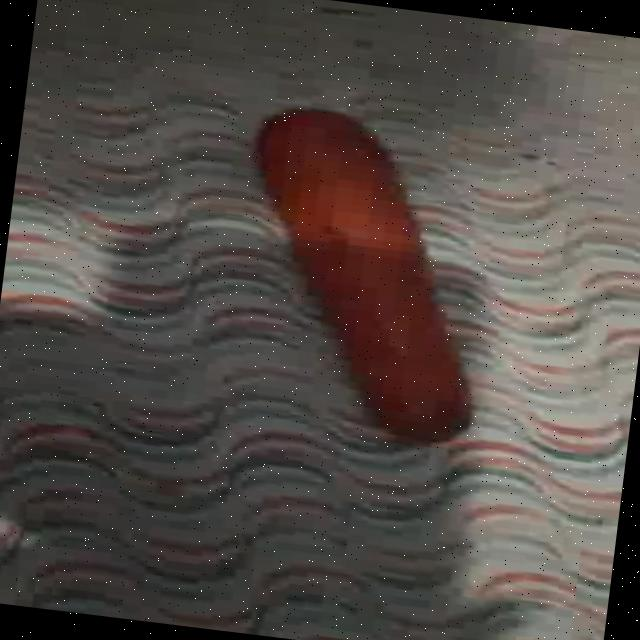carrot: (257, 108, 466, 442)
